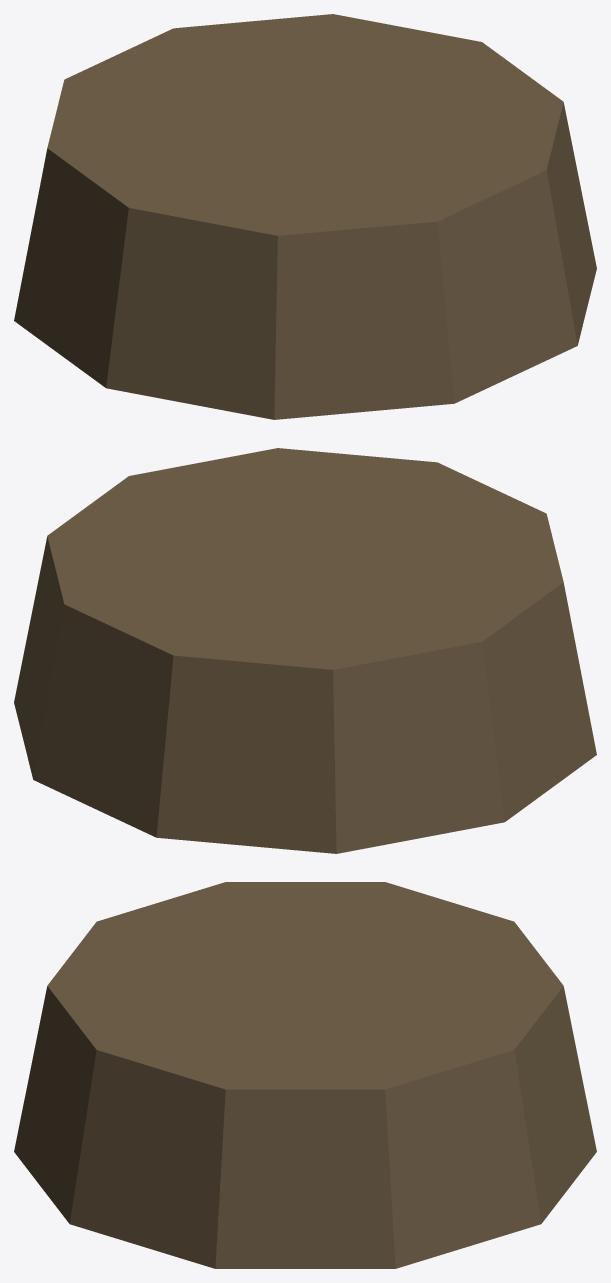
File: prop-wax-cake-blank.fbx
The picture shows the model from 3 angles, top to bottom: view 1: azimuth 30°, elevation 25°; view 2: azimuth 150°, elevation 25°; view 3: azimuth 270°, elevation 25°; orthographic projection. The views are drawn at different scales.
Parts seen in each view (by area): view 1: prop-wax-cake-blank; view 2: prop-wax-cake-blank; view 3: prop-wax-cake-blank.
Boxes of the visible parts, x1,y1,x2,y2 form: prop-wax-cake-blank: (14,14,596,419); prop-wax-cake-blank: (14,448,596,853); prop-wax-cake-blank: (14,882,596,1268).
Bounding box in the file's own units: 6.66 × 2.2 × 7.
